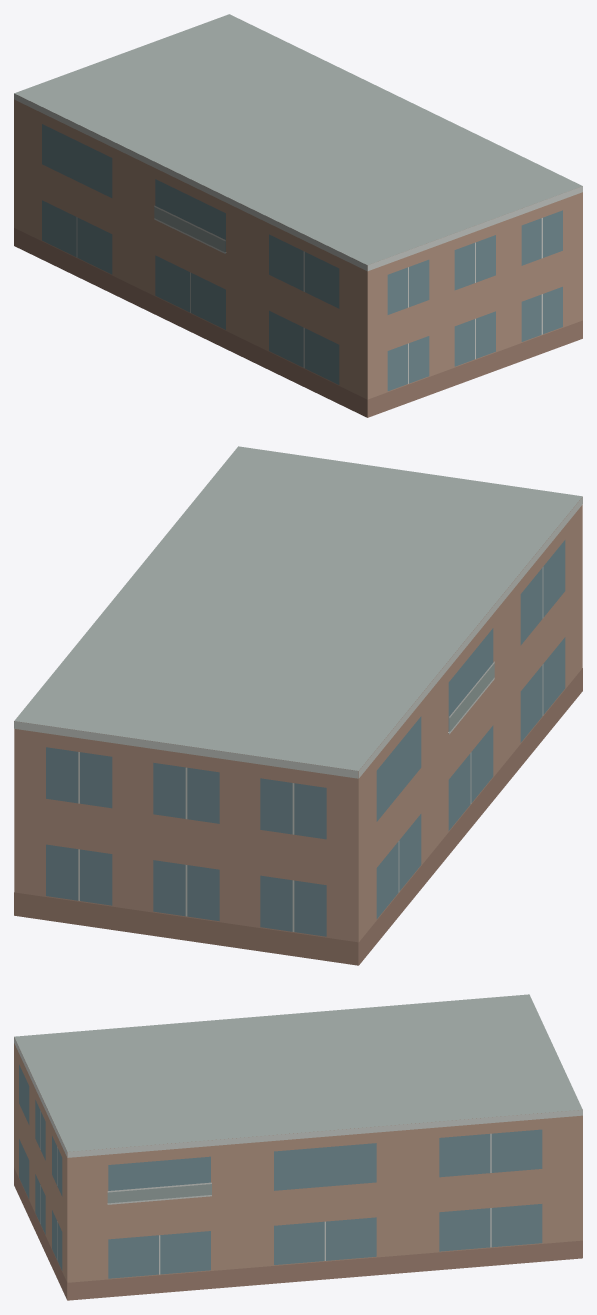
Rendered from survey-upis-32705134.glb.
3 renders of one model, top to bottom at view 1: azimuth 30°, elevation 25°; view 2: azimuth 150°, elevation 25°; view 3: azimuth 270°, elevation 25°, orthographic. The views are drawn at different scales.
Visible parts, largest first — view 1: survey-upis-32705134.tmp; view 2: survey-upis-32705134.tmp; view 3: survey-upis-32705134.tmp.
Boxes of the visible parts, x1,y1,x2,y2 form: survey-upis-32705134.tmp: (14,14,582,417); survey-upis-32705134.tmp: (14,446,582,965); survey-upis-32705134.tmp: (14,994,582,1300).
Size of the model in its own units: 13.88 by 6.1 by 21.17.
